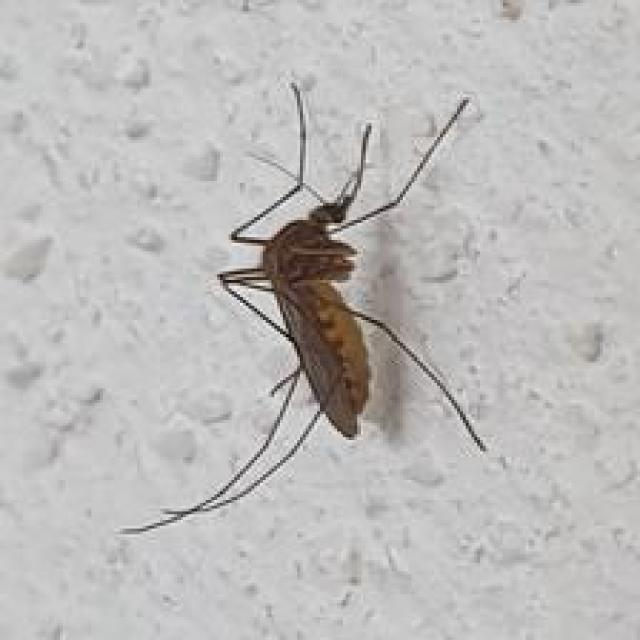Culex: (116, 80, 490, 537)
